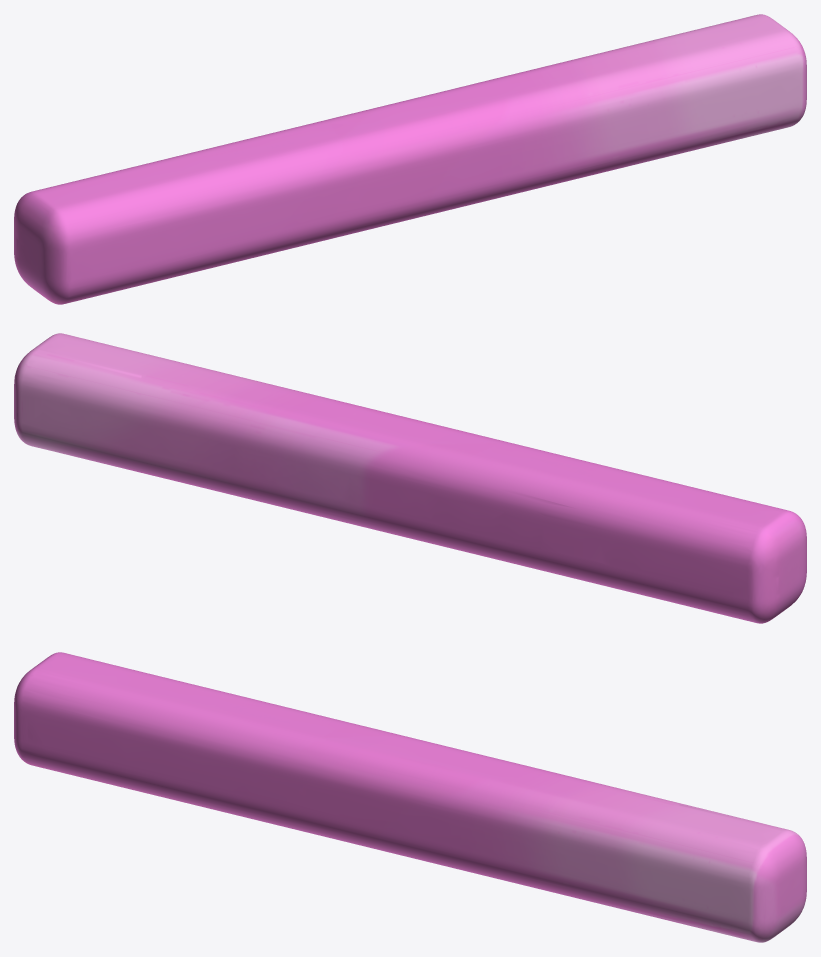
The model's file is pink_wire.fbx.
The picture shows the model from 3 angles, top to bottom: view 1: azimuth 30°, elevation 25°; view 2: azimuth 150°, elevation 25°; view 3: azimuth 330°, elevation 25°; orthographic projection.
Parts seen in each view (by area): view 1: node_0; view 2: node_0; view 3: node_0.
Part boxes in pixels (bbox=[...]): node_0: bbox=[14, 14, 806, 304]; node_0: bbox=[14, 333, 806, 623]; node_0: bbox=[14, 652, 806, 942].
Size of the model in its own units: 456 by 54.76 by 52.44.
